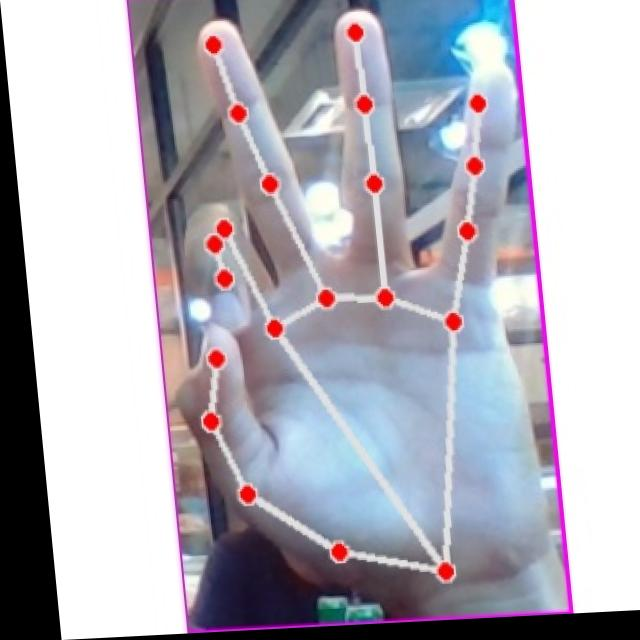F: (144, 0, 550, 607)
